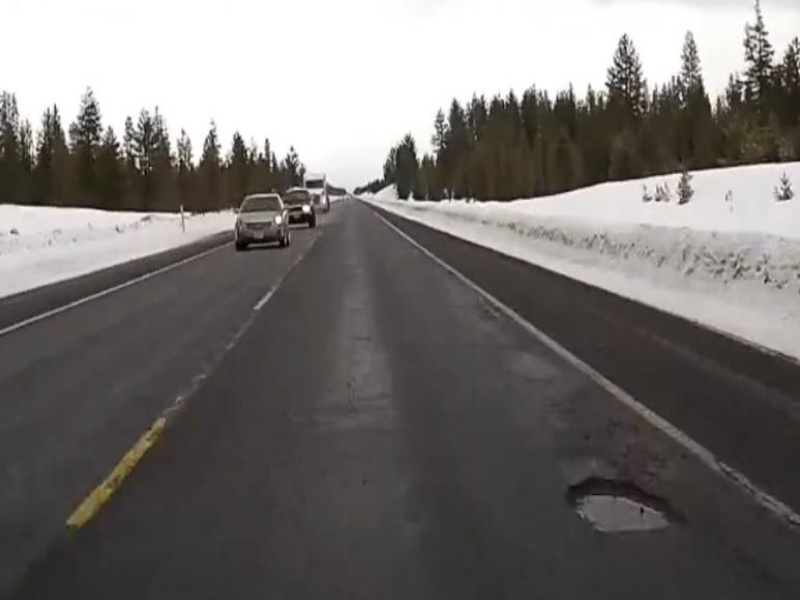pothole: (566, 475, 683, 541)
